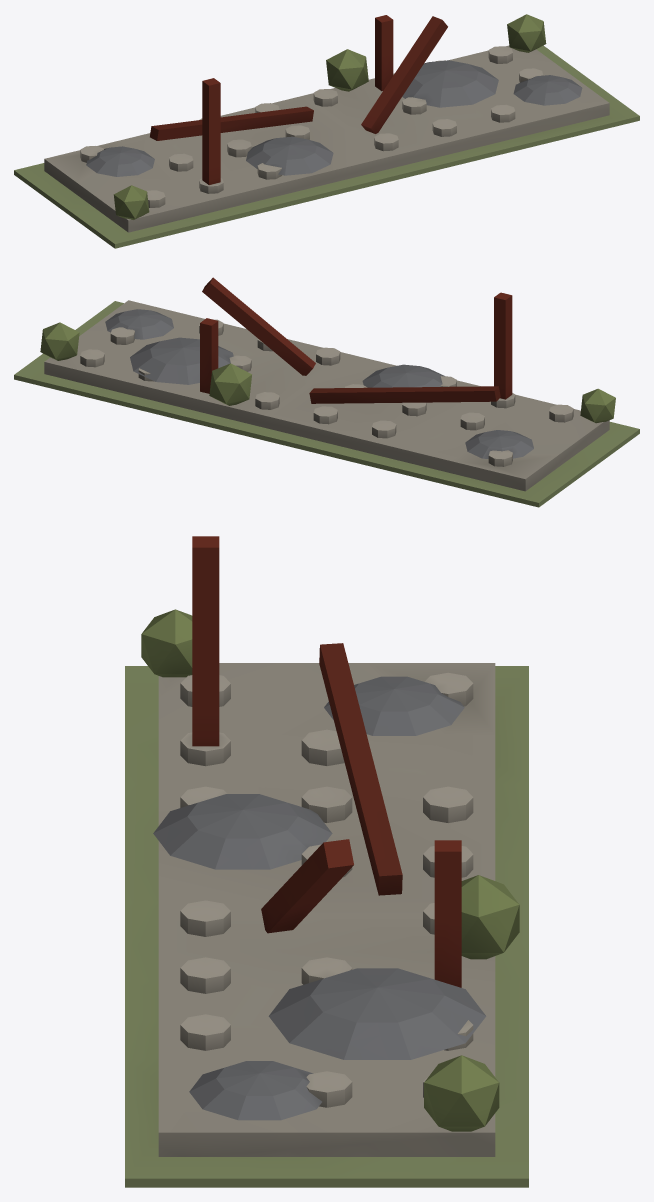
The model's file is rashomon-ruin.glb.
The picture shows the model from 3 angles, top to bottom: view 1: azimuth 30°, elevation 25°; view 2: azimuth 150°, elevation 25°; view 3: azimuth 270°, elevation 25°; orthographic projection. The views are drawn at different scales.
Parts seen in each view (by area): view 1: p0_grounds, p1_ruin, p2_ruin; view 2: p0_grounds, p1_ruin, p2_ruin; view 3: p0_grounds, p2_ruin, p1_ruin.
Boxes of the visible parts, box(x1,y1,x2,y2) form: p0_grounds: box(14, 45, 639, 248); p1_ruin: box(80, 15, 543, 207); p2_ruin: box(86, 14, 582, 219); p0_grounds: box(14, 300, 639, 507); p1_ruin: box(80, 277, 573, 466); p2_ruin: box(40, 309, 615, 458); p0_grounds: box(125, 663, 528, 1187); p2_ruin: box(141, 609, 519, 1131); p1_ruin: box(180, 536, 473, 1107).
Size of the model in its own units: 36 by 8.11 by 12.
